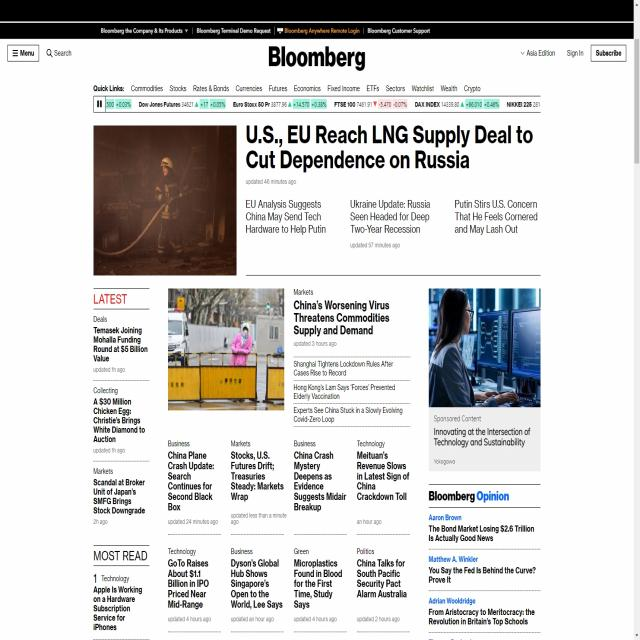menu-bar: (518, 42, 628, 62), (5, 40, 72, 62)
menu-panel: (91, 78, 484, 96)
